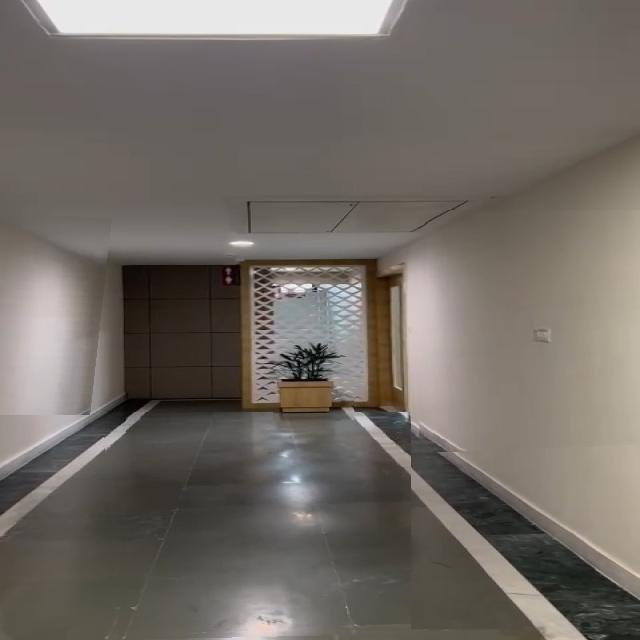floor: (102, 412, 411, 640)
furniture: (272, 337, 354, 421)
wall: (411, 210, 640, 453), (0, 211, 112, 415)
